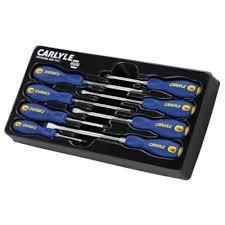screwdriver: (8, 120, 87, 143), (87, 80, 149, 94), (74, 97, 134, 111), (80, 88, 138, 102), (71, 106, 122, 119), (44, 121, 97, 133), (64, 115, 109, 129), (103, 71, 148, 84)
